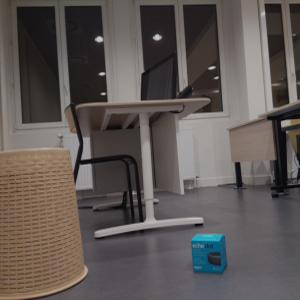medium: (1, 149, 88, 298)
small: (191, 232, 229, 274)
